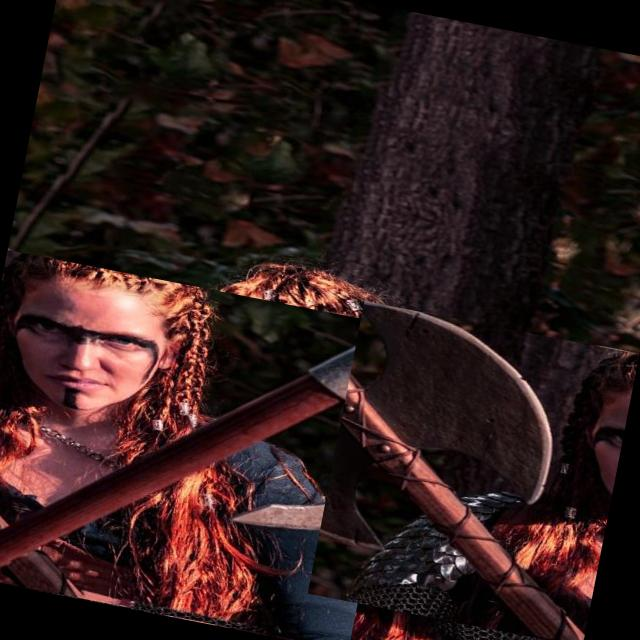Axe: (0, 328, 411, 564), (319, 302, 584, 640), (0, 430, 99, 495)
